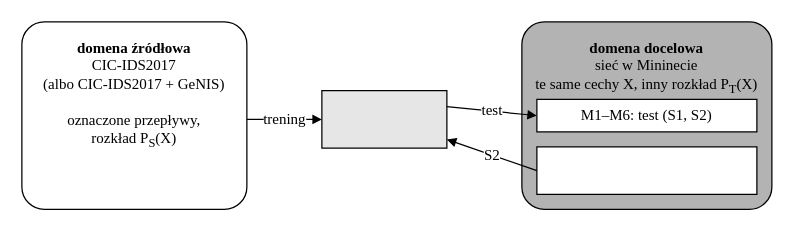
Some shapes in this 794 by 231 pixel diagram are drawn without their labels. Here are the shapes that lost their labels. From the top down, the centre of each, then its label:
pixel 384 118: model (cechy, próg)
pixel 646 170: M0: niewiele oznaczonych danych (adaptacja w S2)
